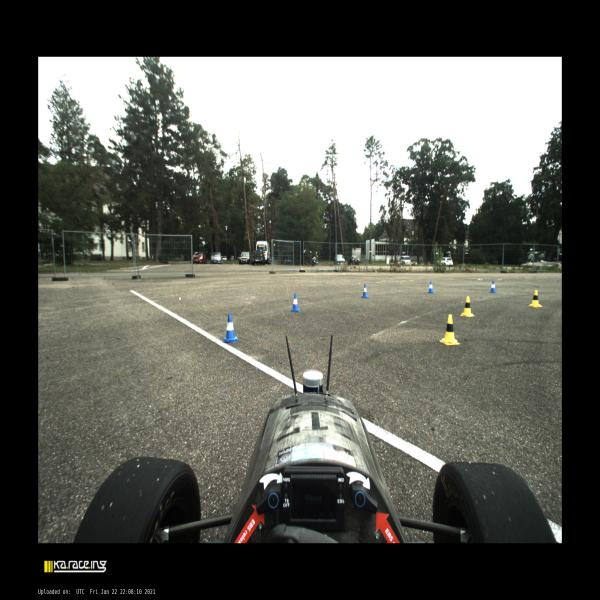blue_cone: (222, 314, 238, 342), (290, 294, 301, 312), (361, 284, 369, 298), (489, 281, 497, 293), (428, 281, 435, 293)
yellow_cone: (440, 315, 460, 345), (460, 296, 475, 317), (528, 290, 542, 307)
